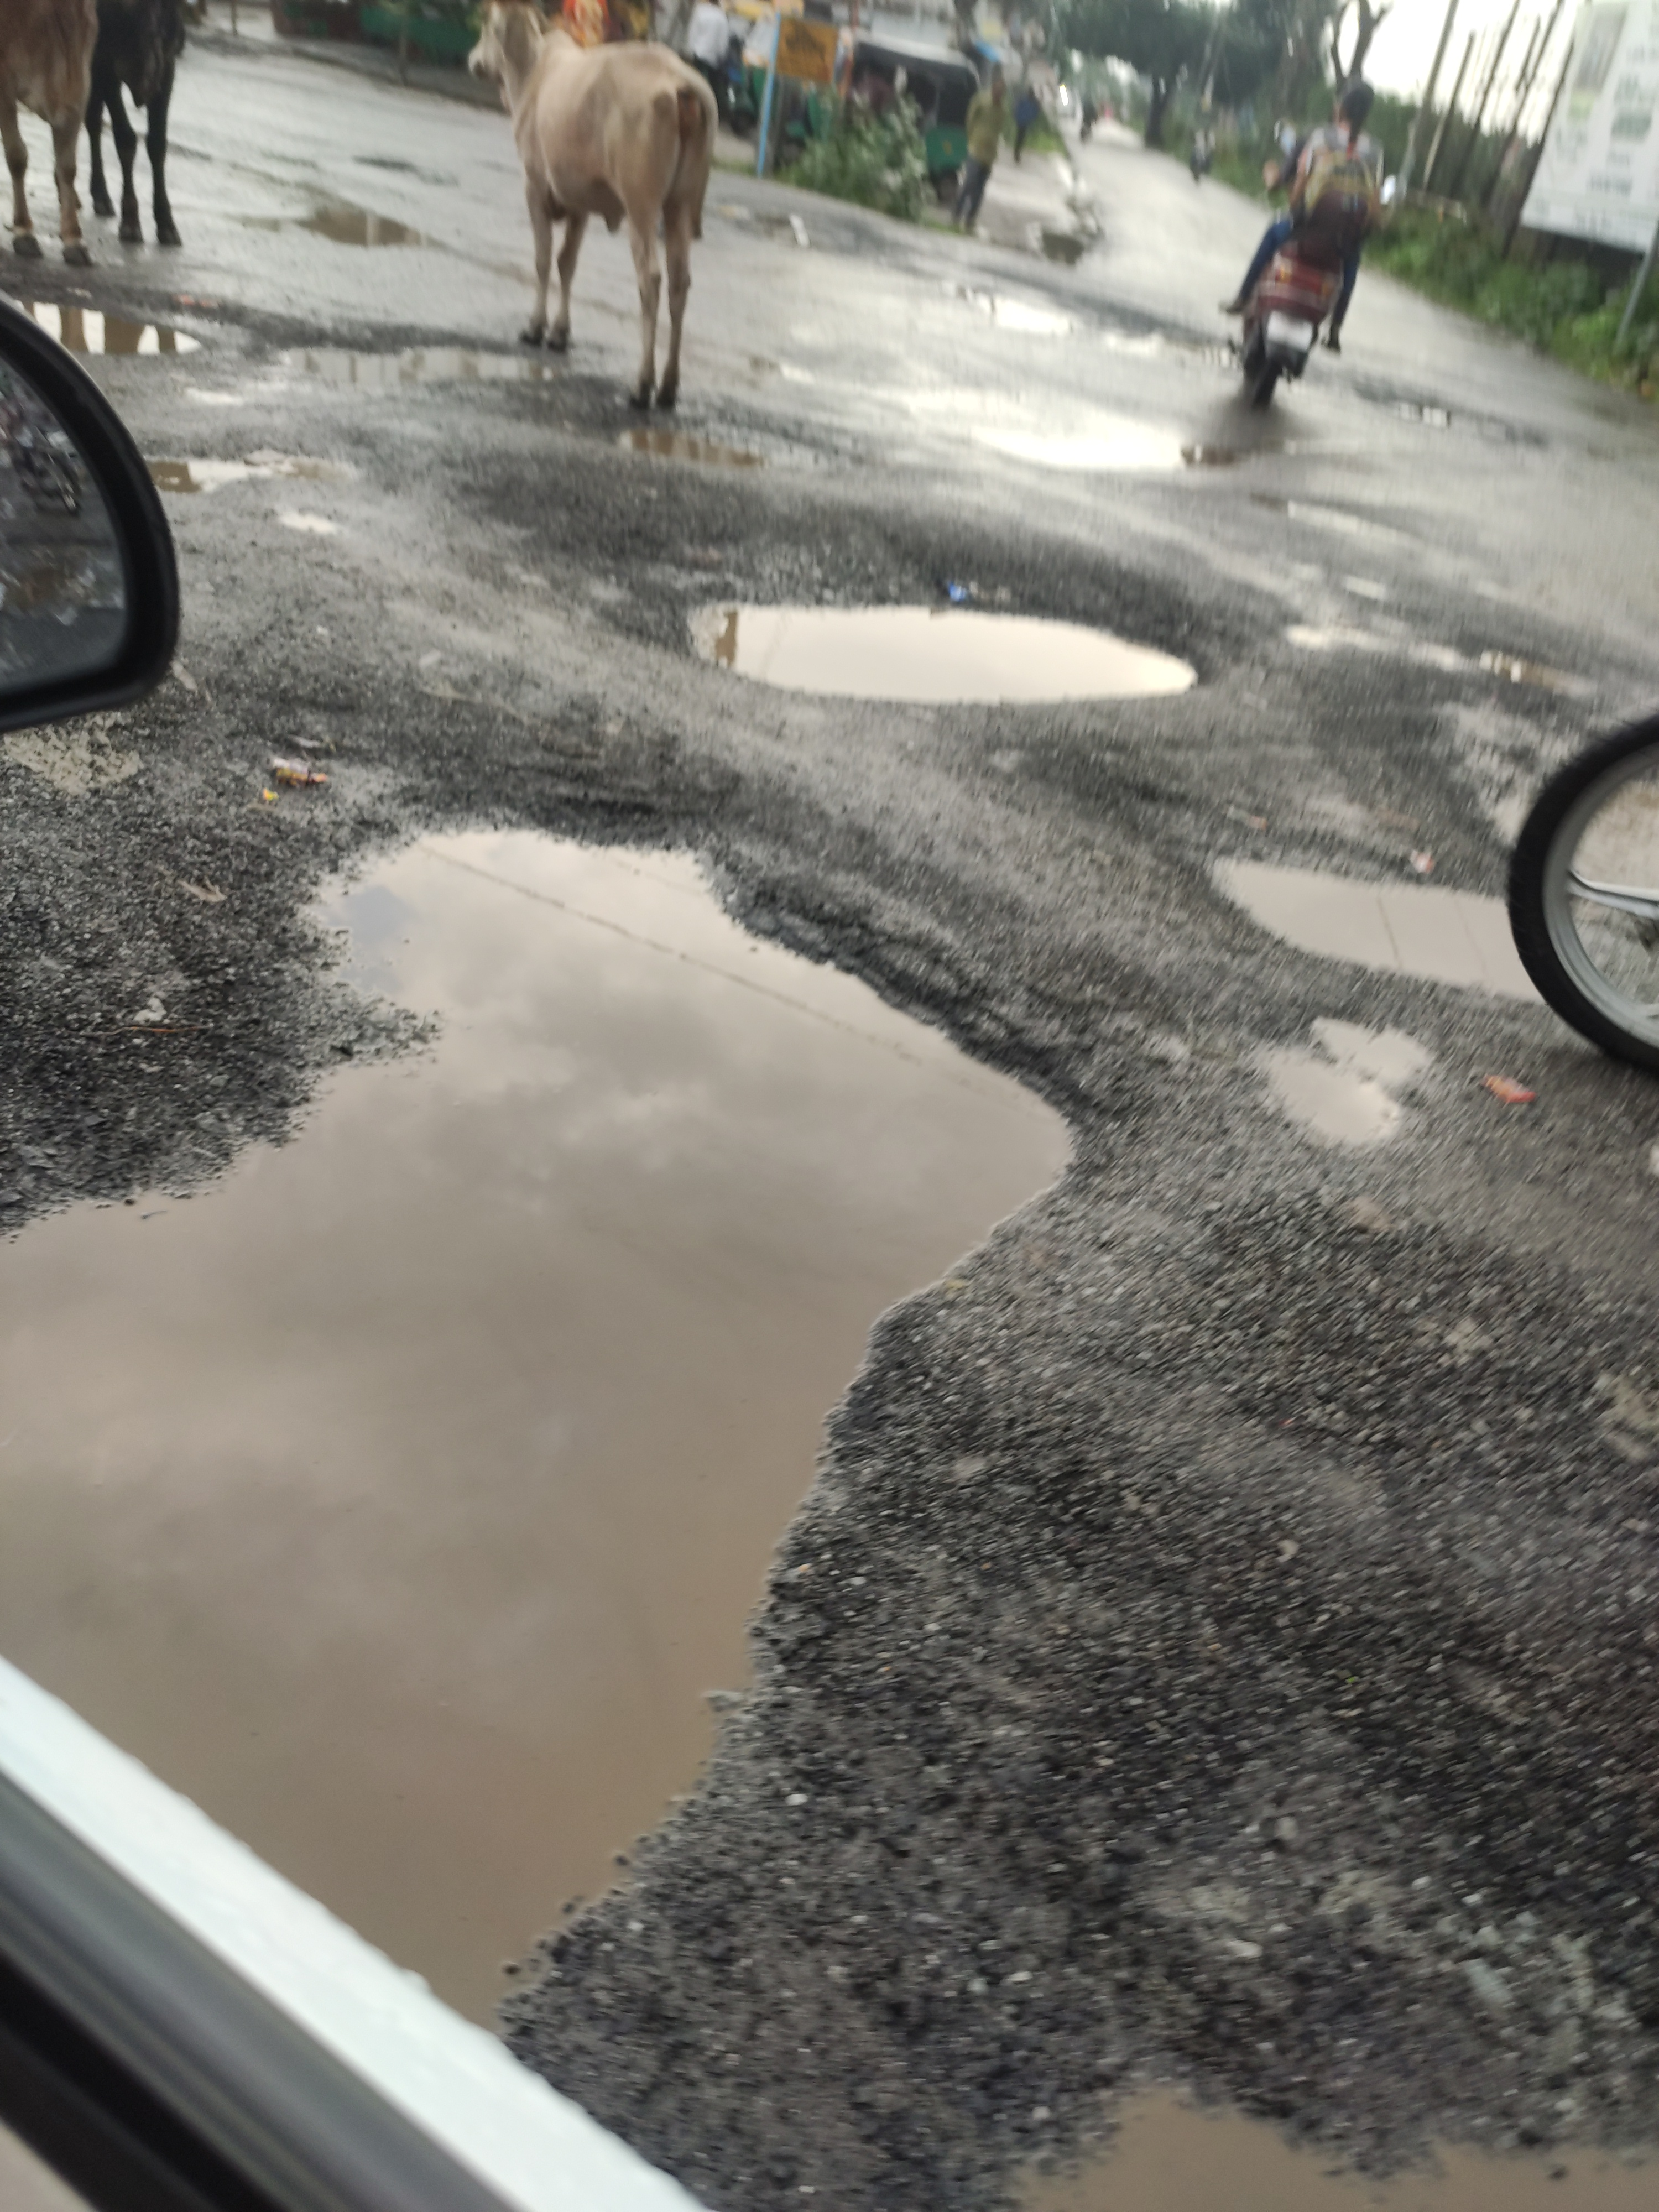potholes: (1, 786, 1100, 2065), (987, 2037, 1653, 2212), (644, 568, 1235, 744), (1177, 831, 1659, 1014), (744, 347, 1232, 489), (1, 268, 541, 385), (1225, 993, 1439, 1170), (171, 136, 461, 243), (1339, 378, 1543, 440), (724, 205, 879, 260)
